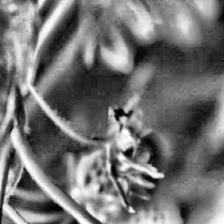Gray Mold: (94, 101, 168, 214)
